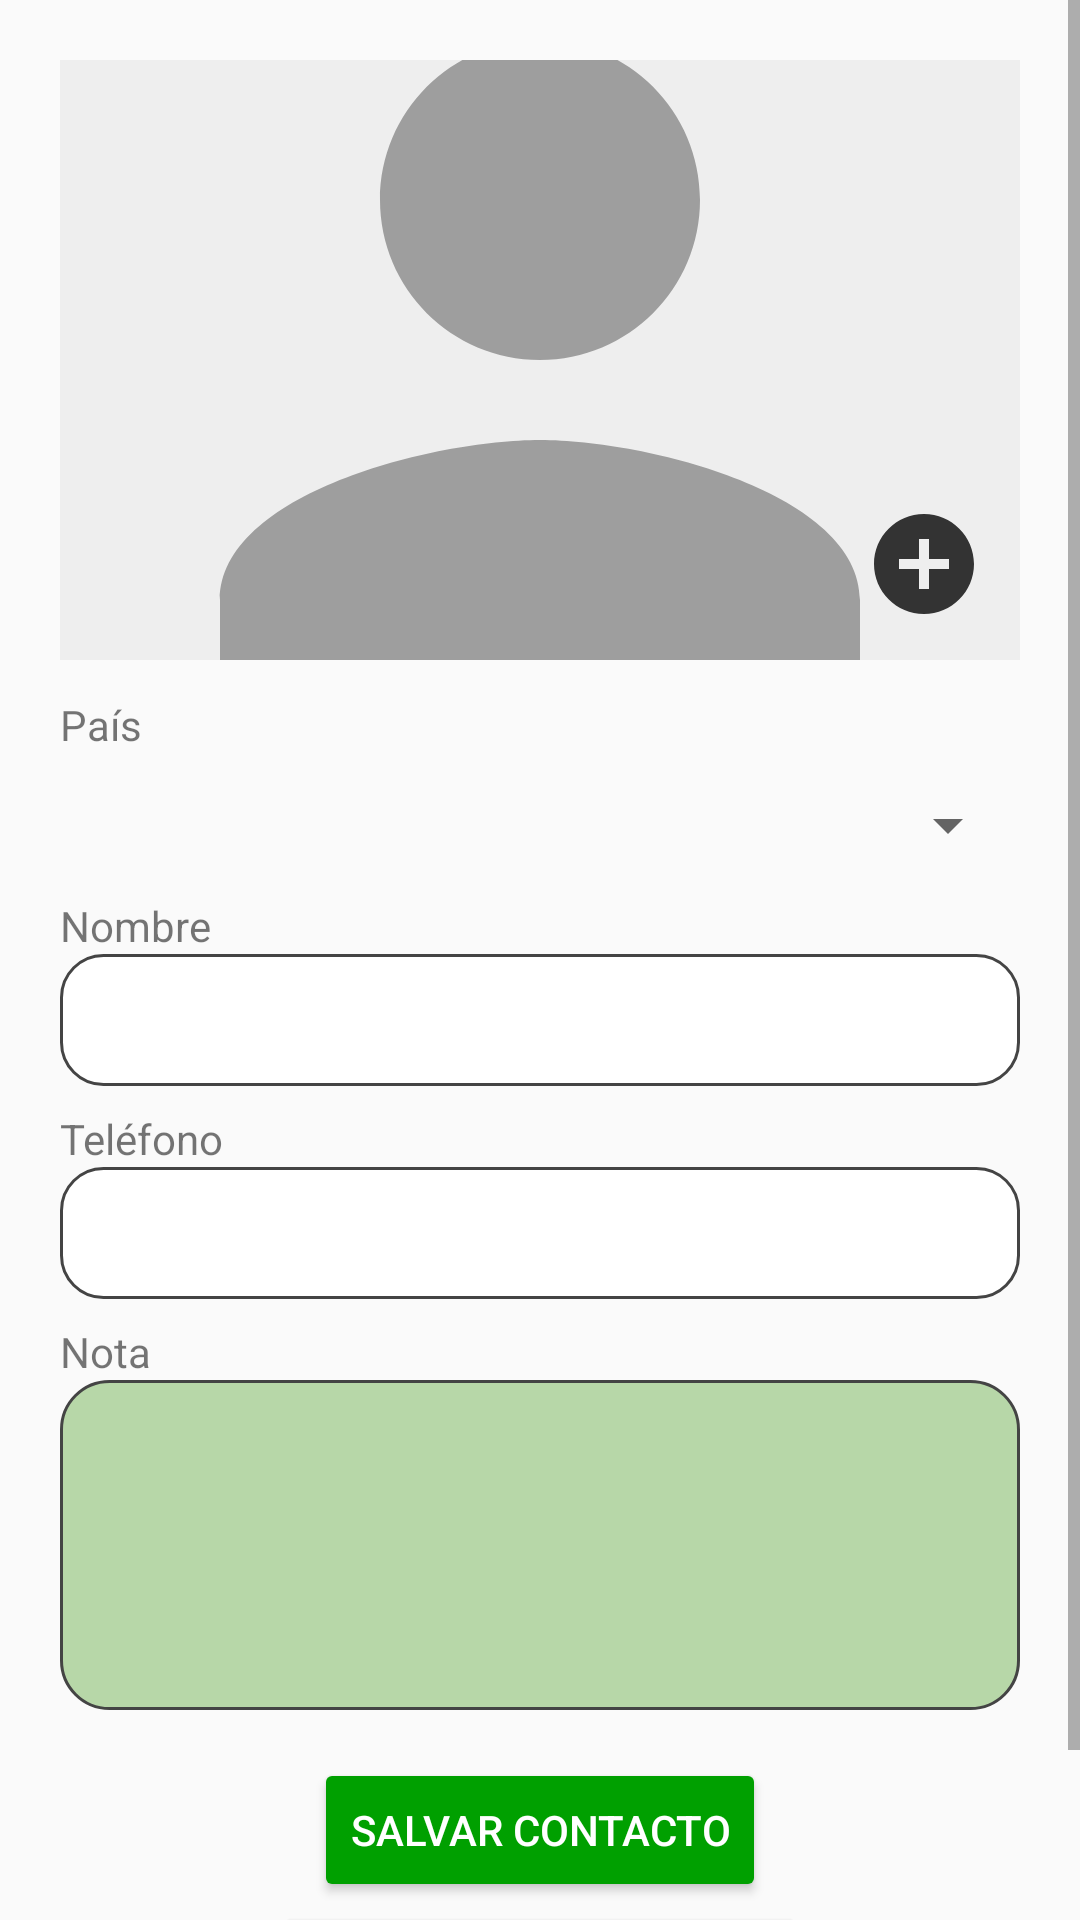

Where icons sit on this 1080px x 1920px app screen, as [left=x1, top=y1, right=x2, bottom=y2]:
Agregar imagen: [left=874, top=514, right=974, bottom=614]
